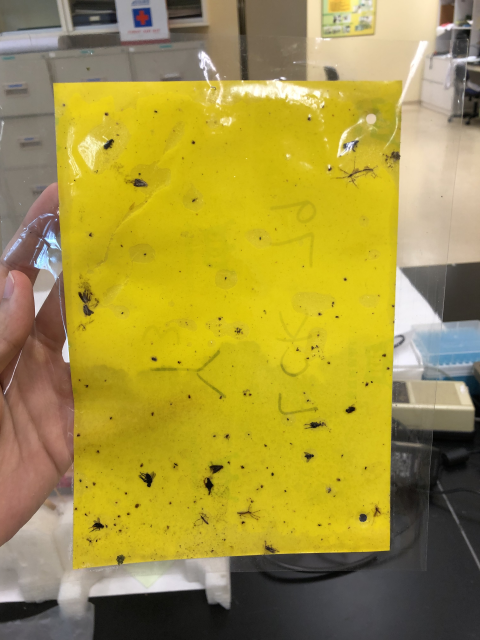DBM: (128, 177, 149, 190), (78, 302, 95, 318), (77, 288, 92, 305), (207, 463, 226, 476)
